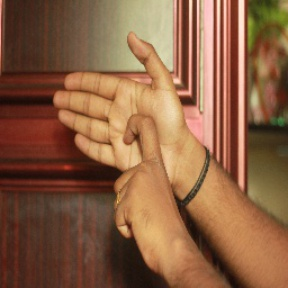R: (54, 28, 195, 242)
